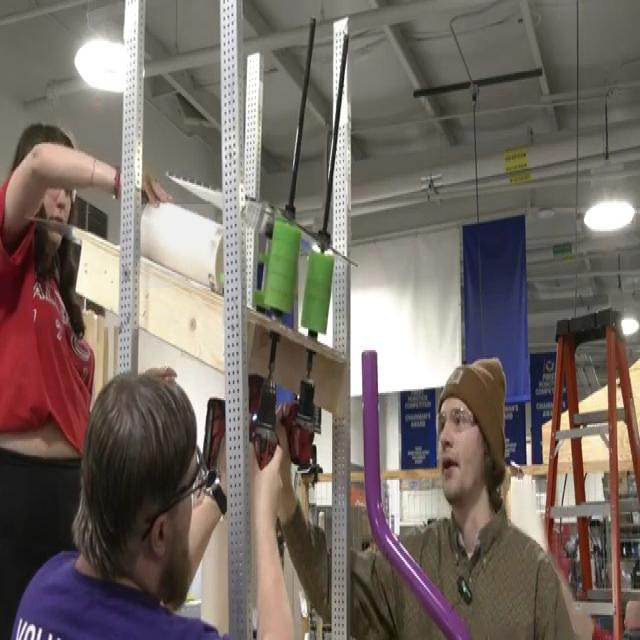Coral: (141, 204, 224, 288)
